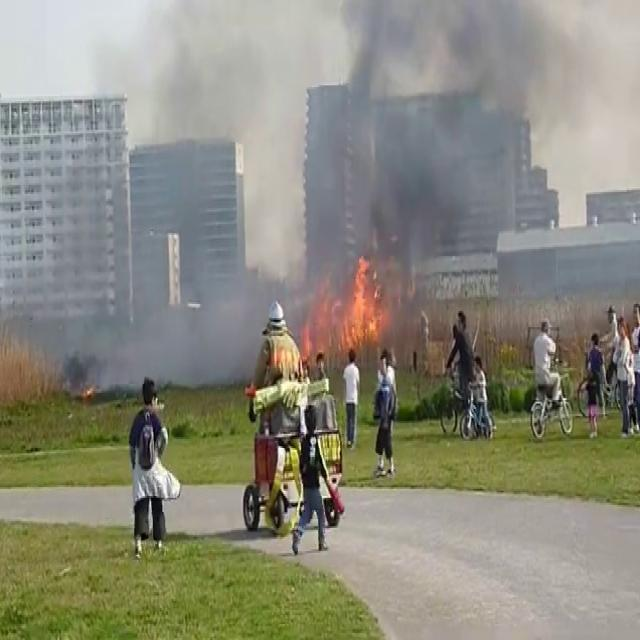Fire: (334, 241, 392, 355), (303, 284, 348, 356)
Smoke: (26, 1, 621, 333)
